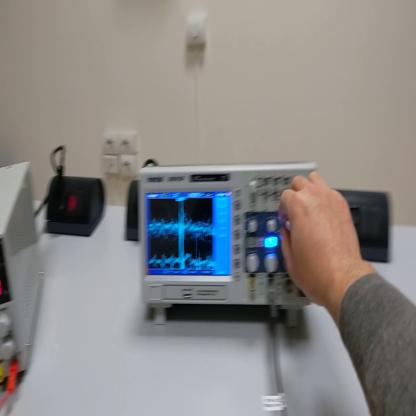hand: (277, 170, 362, 309)
oscilloscope: (144, 157, 331, 333)
power supply: (2, 160, 46, 386)
socket: (47, 176, 106, 240), (124, 184, 141, 245)
